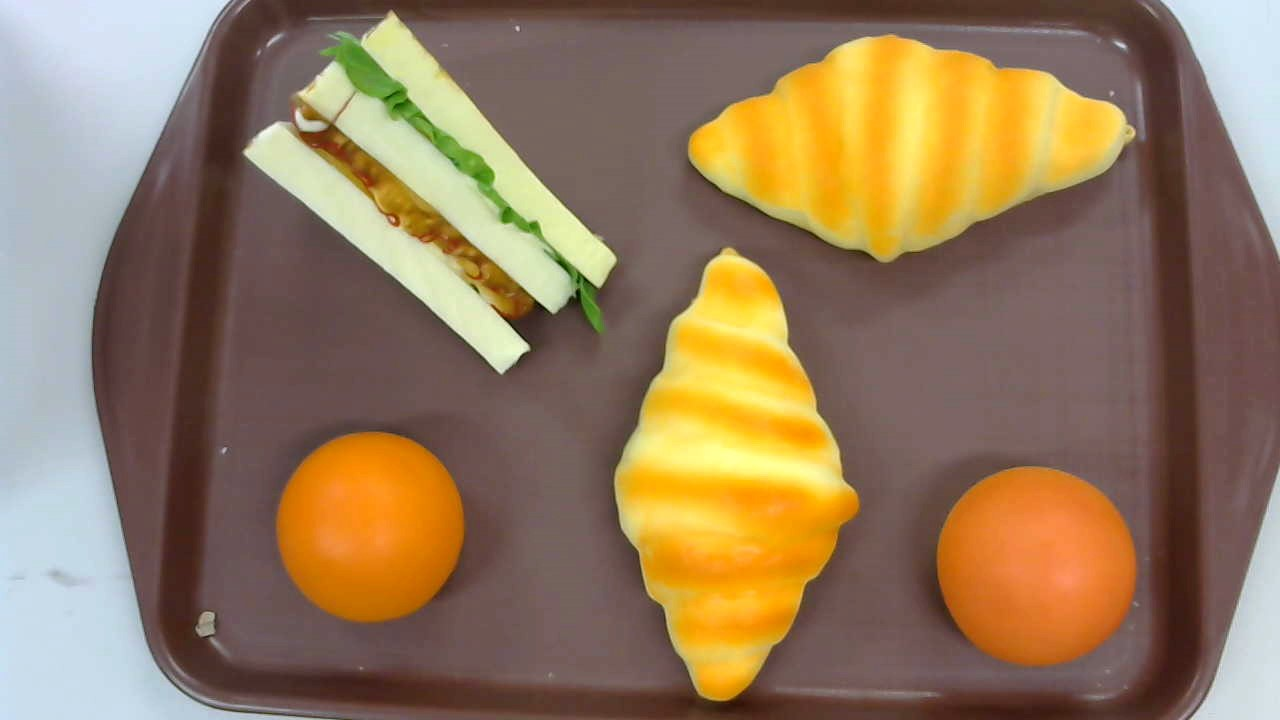bun: (935, 466, 1137, 666), (273, 432, 463, 623)
croissant: (613, 246, 858, 701), (687, 34, 1135, 264)
sandwich: (241, 9, 616, 376)
